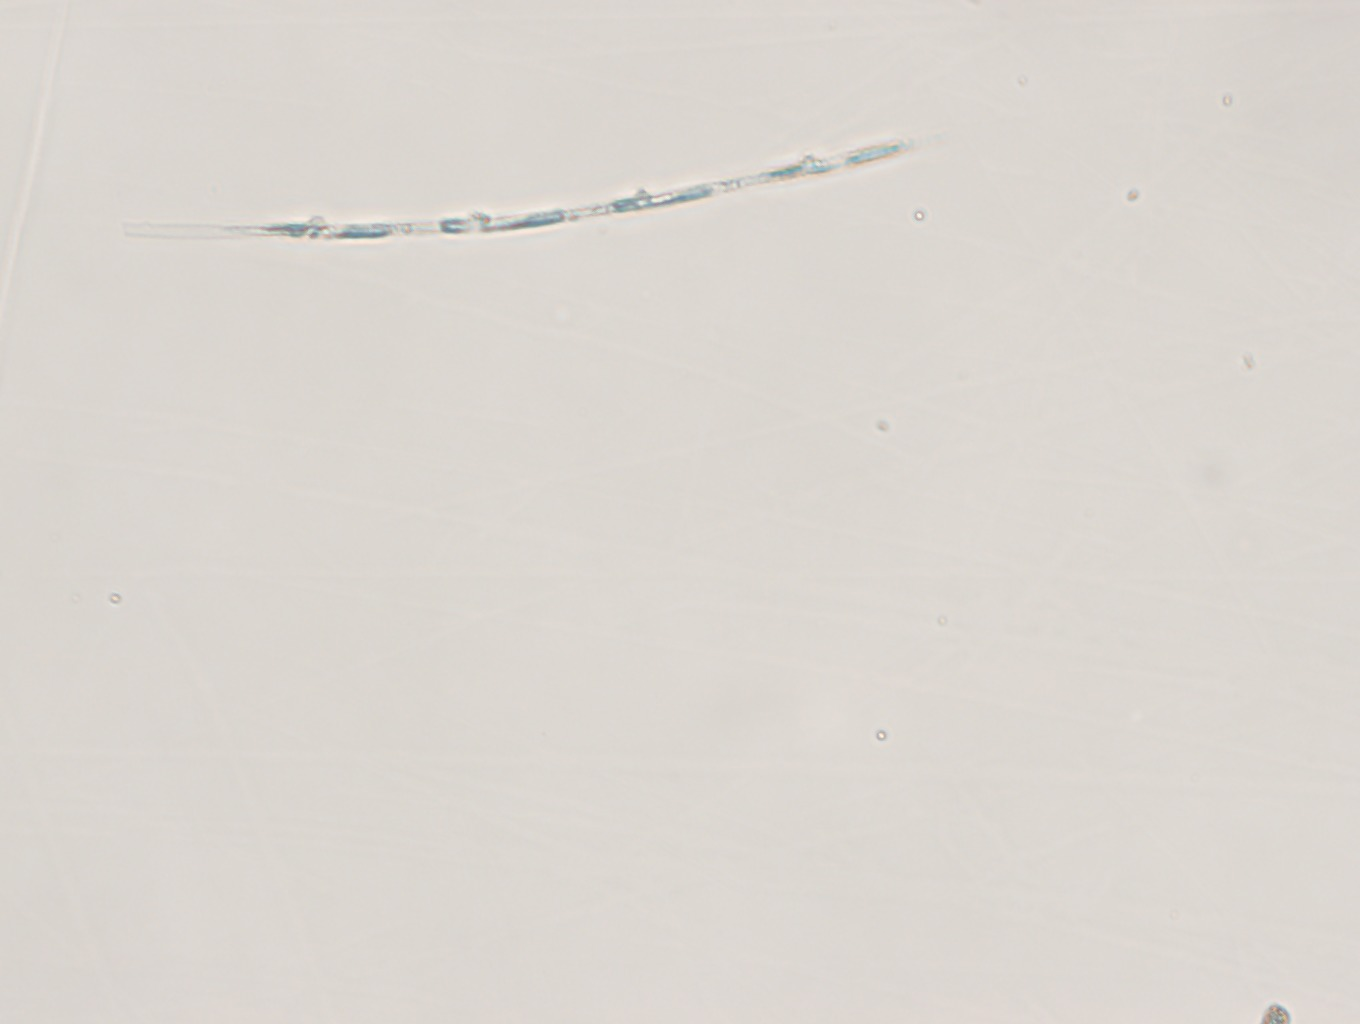ceratium fusus: (142, 129, 961, 268)
